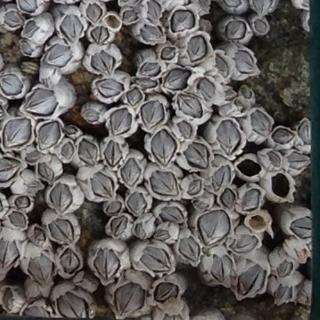Barnacle: (196, 210, 231, 245), (115, 282, 146, 316), (149, 130, 176, 167), (238, 264, 266, 297), (25, 88, 58, 116), (3, 119, 31, 150), (59, 292, 91, 319), (94, 248, 120, 281), (28, 253, 54, 285), (141, 247, 173, 273), (217, 120, 240, 154), (148, 171, 178, 197), (60, 13, 84, 45), (49, 183, 73, 212), (140, 100, 164, 129), (175, 95, 205, 118), (169, 9, 198, 32), (78, 137, 99, 168), (211, 254, 233, 283), (111, 109, 133, 138), (44, 45, 73, 67), (0, 235, 19, 268), (49, 219, 74, 244), (91, 172, 115, 198), (185, 144, 209, 169), (185, 35, 208, 61), (37, 123, 60, 148), (250, 110, 272, 136), (164, 68, 191, 89), (212, 165, 232, 193), (234, 50, 256, 75), (152, 282, 179, 302), (121, 159, 141, 186), (97, 79, 125, 98), (91, 51, 114, 74), (178, 237, 199, 262), (0, 158, 20, 184), (292, 218, 316, 239), (231, 235, 258, 253), (240, 187, 260, 211), (0, 74, 22, 95), (160, 206, 184, 225), (225, 21, 247, 41), (61, 248, 79, 272), (285, 152, 309, 169), (105, 141, 121, 166), (127, 193, 146, 214), (275, 283, 292, 306), (110, 215, 129, 235), (3, 9, 23, 28), (299, 122, 315, 145), (197, 78, 215, 98), (141, 25, 162, 42), (1, 289, 16, 311), (177, 120, 192, 142), (214, 55, 229, 77), (126, 89, 142, 108), (273, 128, 294, 142), (140, 61, 161, 75), (278, 259, 296, 275), (9, 212, 27, 228), (92, 26, 108, 44), (87, 3, 102, 22), (103, 200, 123, 214), (38, 163, 54, 180), (220, 191, 235, 209), (254, 0, 274, 13), (19, 0, 38, 13), (61, 142, 74, 160), (147, 0, 160, 18), (23, 21, 38, 36), (268, 151, 281, 168), (25, 150, 43, 162), (189, 179, 202, 195), (160, 48, 176, 61), (154, 228, 171, 240), (83, 110, 99, 122), (135, 79, 156, 88), (122, 11, 136, 24), (254, 20, 268, 32), (15, 196, 30, 207), (296, 249, 307, 263), (35, 227, 46, 241), (21, 41, 32, 55), (136, 222, 145, 238), (242, 88, 253, 101), (223, 0, 240, 8), (198, 0, 209, 11), (226, 89, 236, 101), (65, 125, 76, 135), (235, 102, 246, 110), (302, 0, 311, 9)
